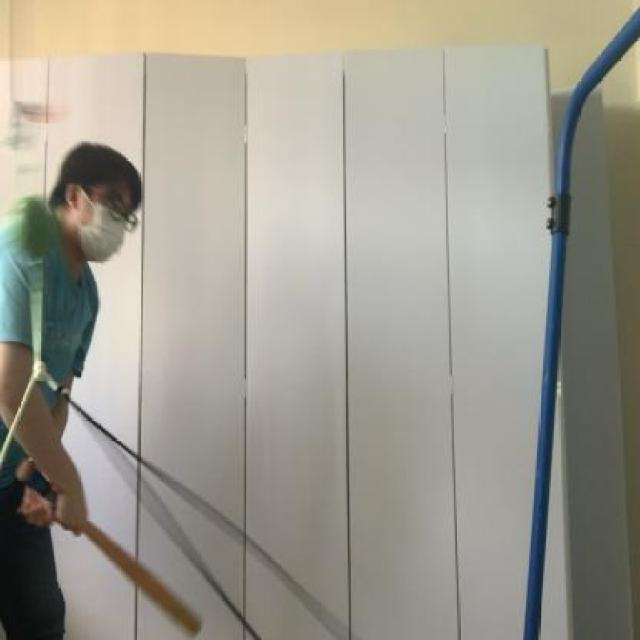baseball: (5, 184, 57, 261)
